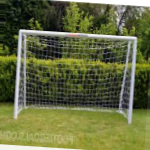goals: (12, 26, 138, 125)
